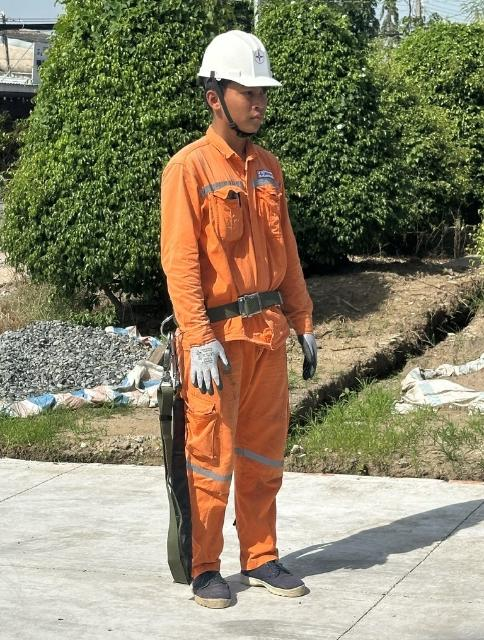gloves: (165, 336, 228, 402), (279, 311, 321, 385)
harness: (144, 288, 303, 335)
helmet: (190, 29, 297, 106)
shoes: (234, 533, 319, 609), (182, 551, 240, 619)
